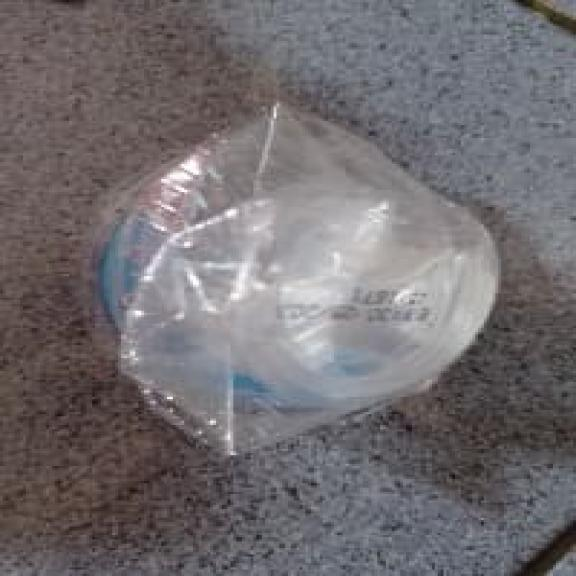Plastik: (99, 102, 497, 455)
